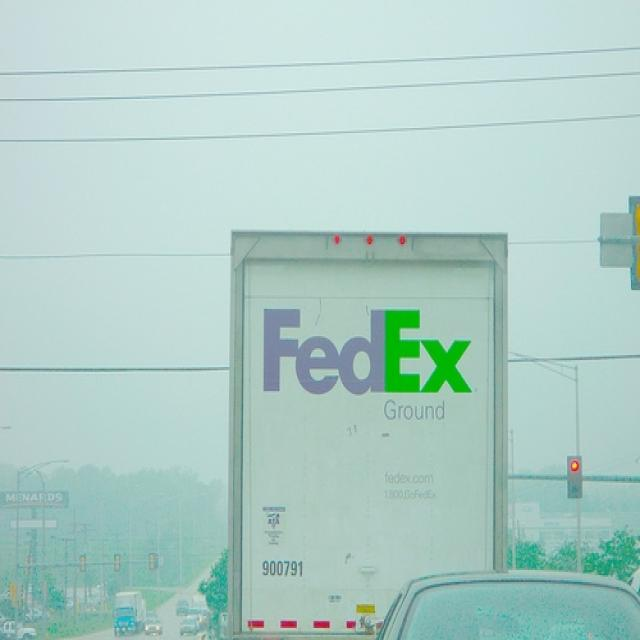fedex: (258, 307, 480, 395)
